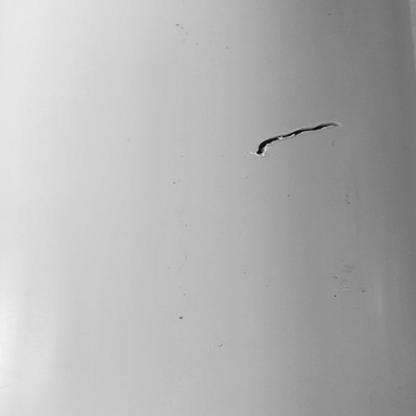fengxi: (256, 121, 339, 159)
